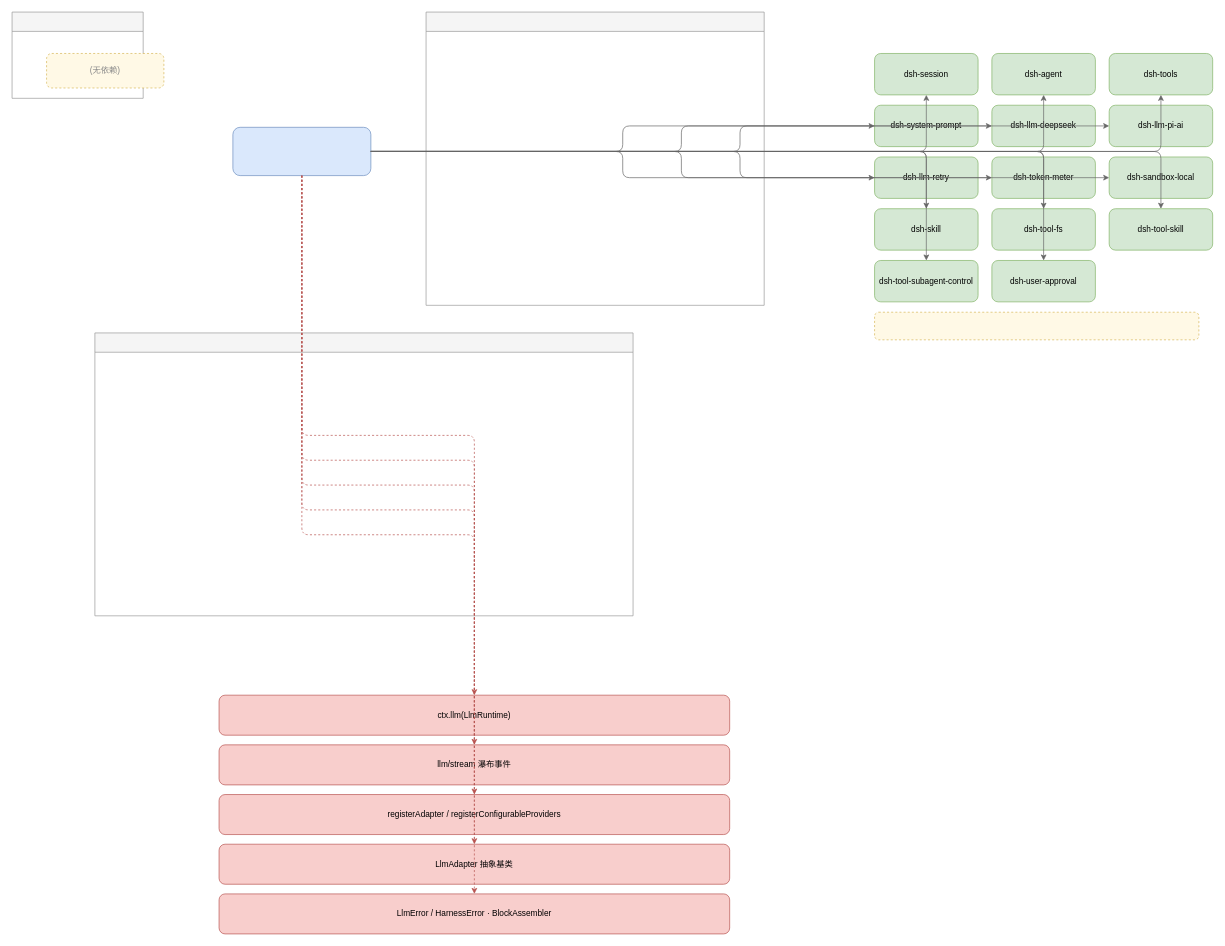
The diagram is 1225 pixels wide and 946 high, and some of its shapes have lost their labels. Here are the shapes that lost their labels. From the top down, the box of each, then its label:
(11, 11, 143, 98): 上游依赖 upstream (E1/E2/E3)
(232, 127, 371, 176): @deepseek-ai/dsh-llm
(425, 11, 764, 305): 下游被依赖 dependents
(874, 312, 1199, 340): … 等共 19 个下游
(94, 332, 633, 616): 提供服务 provides（关键项）
